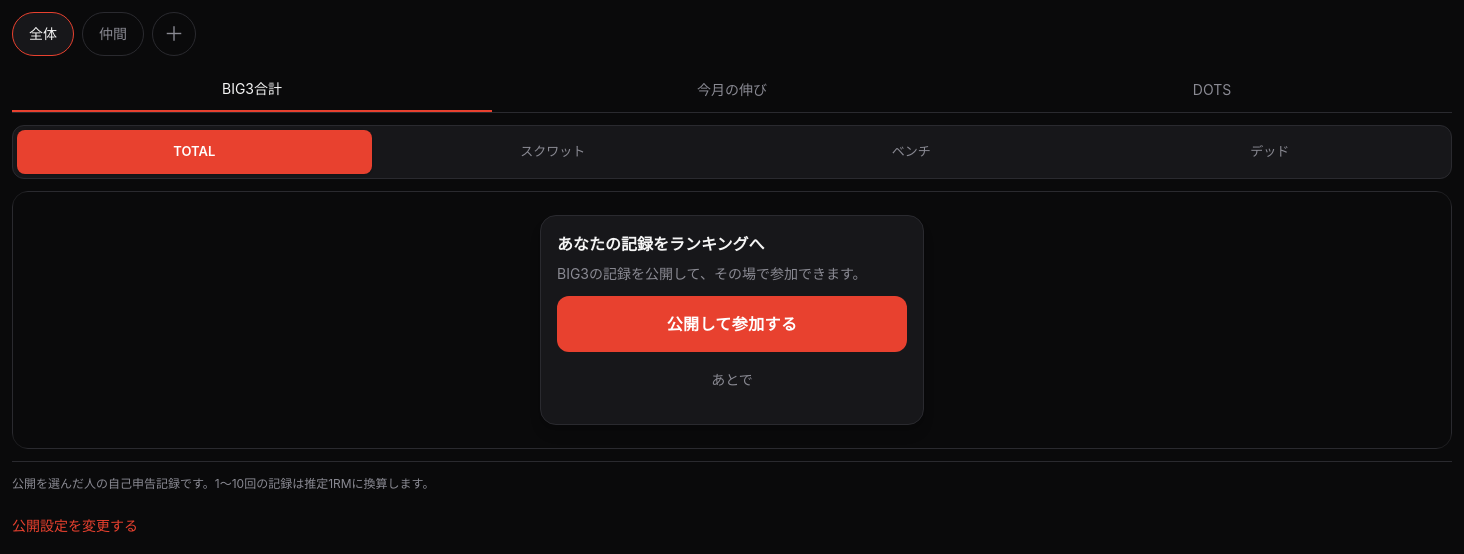
Test case: shows opted-in members with unit-less DOTS and guides a member without weights
The image size is (1464, 554).
Click the button "仲間": (113, 34) [82,12,144,56]
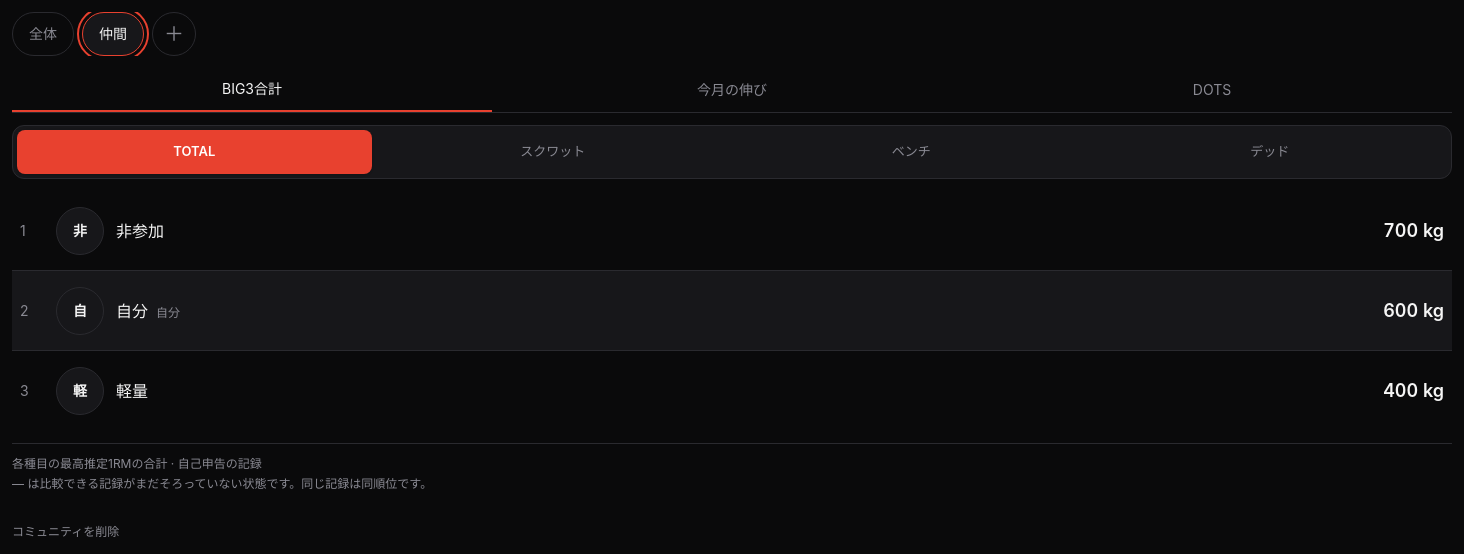
expect the text "700 kg" is shown: met, box [1383,216,1444,244]
Click the button "DOTS": (1212, 90) [972,68,1452,112]
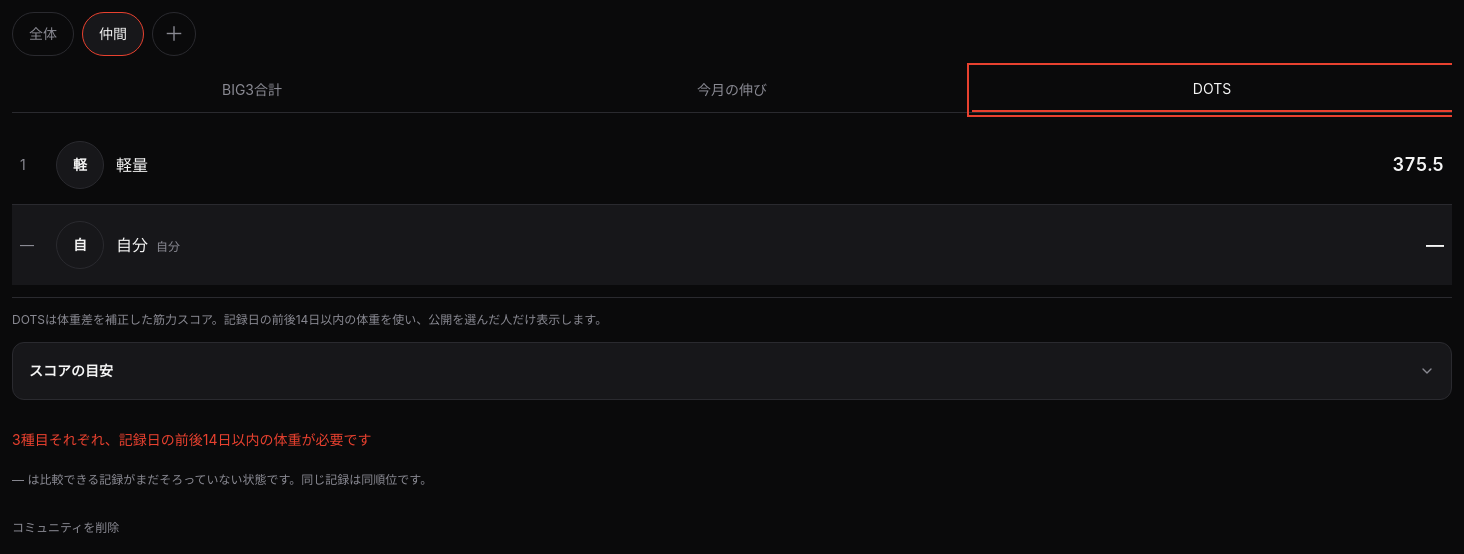
expect the text "375.5" is shown: met, box [1393,150,1444,178]
expect the button "非参加" is gone: met
